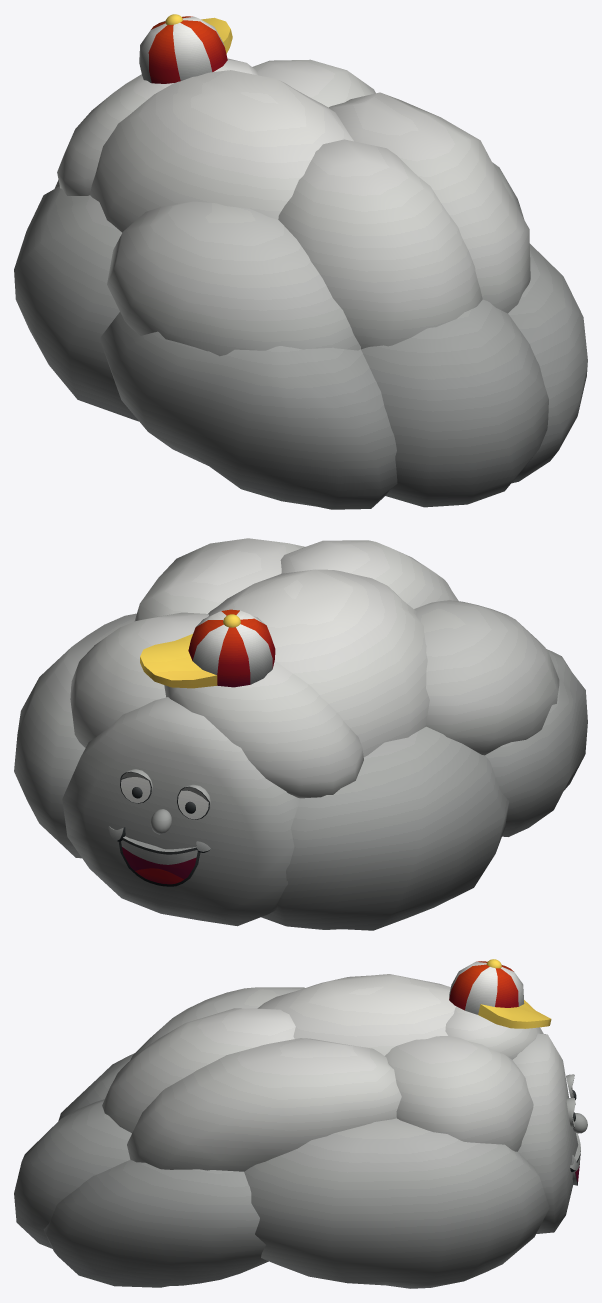
The model's file is Zeus_Cloud.fbx.
3 views of the same model, one above another, from view 1: azimuth 30°, elevation 25°; view 2: azimuth 150°, elevation 25°; view 3: azimuth 270°, elevation 25° (orthographic). The views are drawn at different scales.
Visible parts, largest first — view 1: Zeus; view 2: Zeus; view 3: Zeus.
Boxes of the visible parts, x1=… form: Zeus: x1=14, y1=14, x2=587, y2=509; Zeus: x1=14, y1=538, x2=587, y2=930; Zeus: x1=14, y1=959, x2=587, y2=1288.
Bounding box in the file's own units: 4.19 × 2.93 × 5.46.
